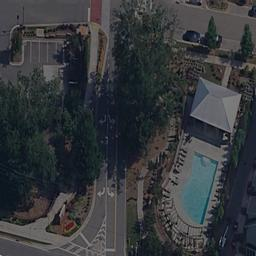Chevron: (90, 212, 107, 249)
Crosswalk: (56, 249, 107, 256)
Double Solid Yellow Line: (114, 40, 117, 249)
Left Turn Arrow: (107, 185, 114, 199)
Right Turn Arrow: (97, 183, 105, 198)
Stop Line: (77, 230, 90, 246)
